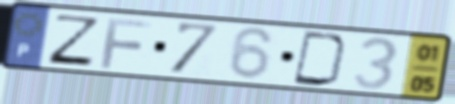3: (352, 35, 403, 92)
6: (225, 25, 280, 84)
7: (168, 19, 222, 76)
D: (290, 29, 352, 89)
F: (98, 16, 156, 71)
Z: (44, 12, 103, 69)
